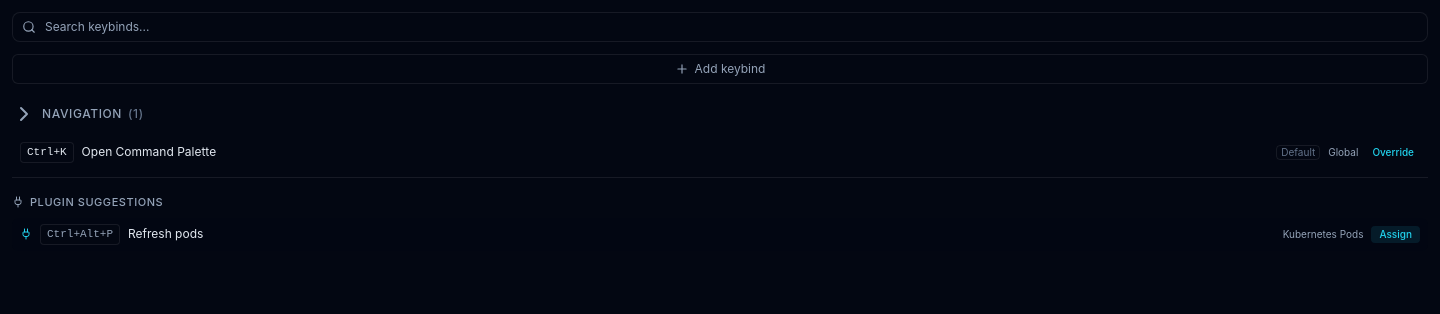
Test: KeybindSettings › plugin commands › assigns a plugin's suggested keybind on this device
This screenshot has width=1440, height=314.
Click the button with aria-label "Assign Ctrl+Alt+P to Refresh pods": (1396, 234) [1371,226,1420,243]
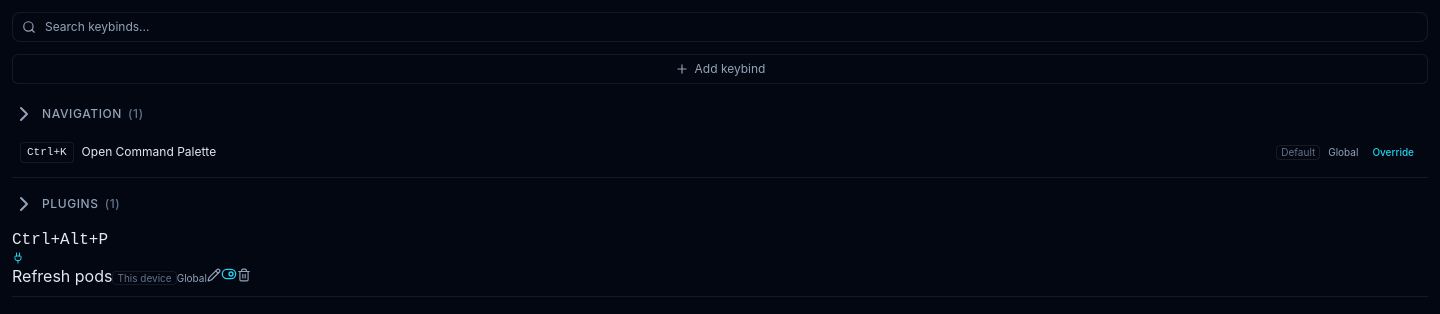
Expected: the button "Assign" is gone
